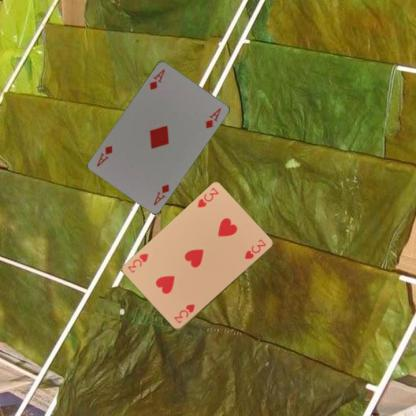3h: (194, 185, 219, 209), (171, 302, 196, 324)
Ad: (147, 66, 166, 91), (151, 182, 170, 206)
